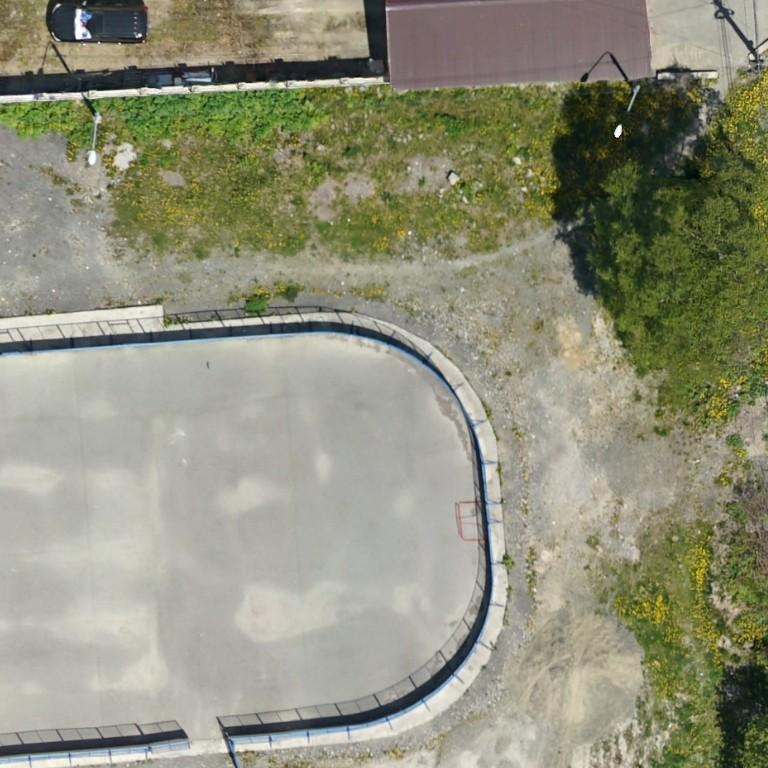hogweed: (94, 89, 330, 139), (0, 102, 93, 144)
